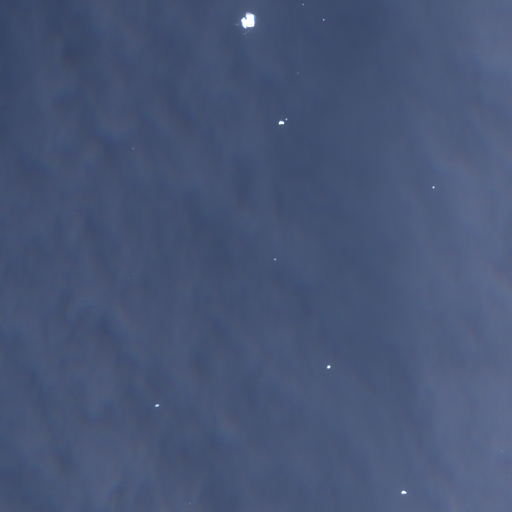Iceberg: (241, 12, 256, 28), (278, 118, 287, 124), (326, 364, 330, 368), (401, 490, 406, 493), (155, 404, 159, 406), (273, 258, 276, 260), (302, 3, 304, 5), (322, 18, 324, 20), (432, 186, 434, 188), (132, 147, 133, 149), (297, 72, 298, 73)
